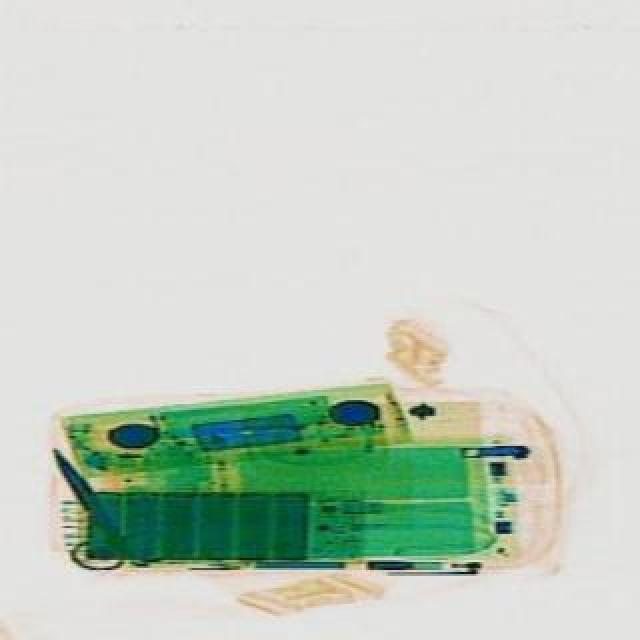pliers: (14, 424, 176, 592)
